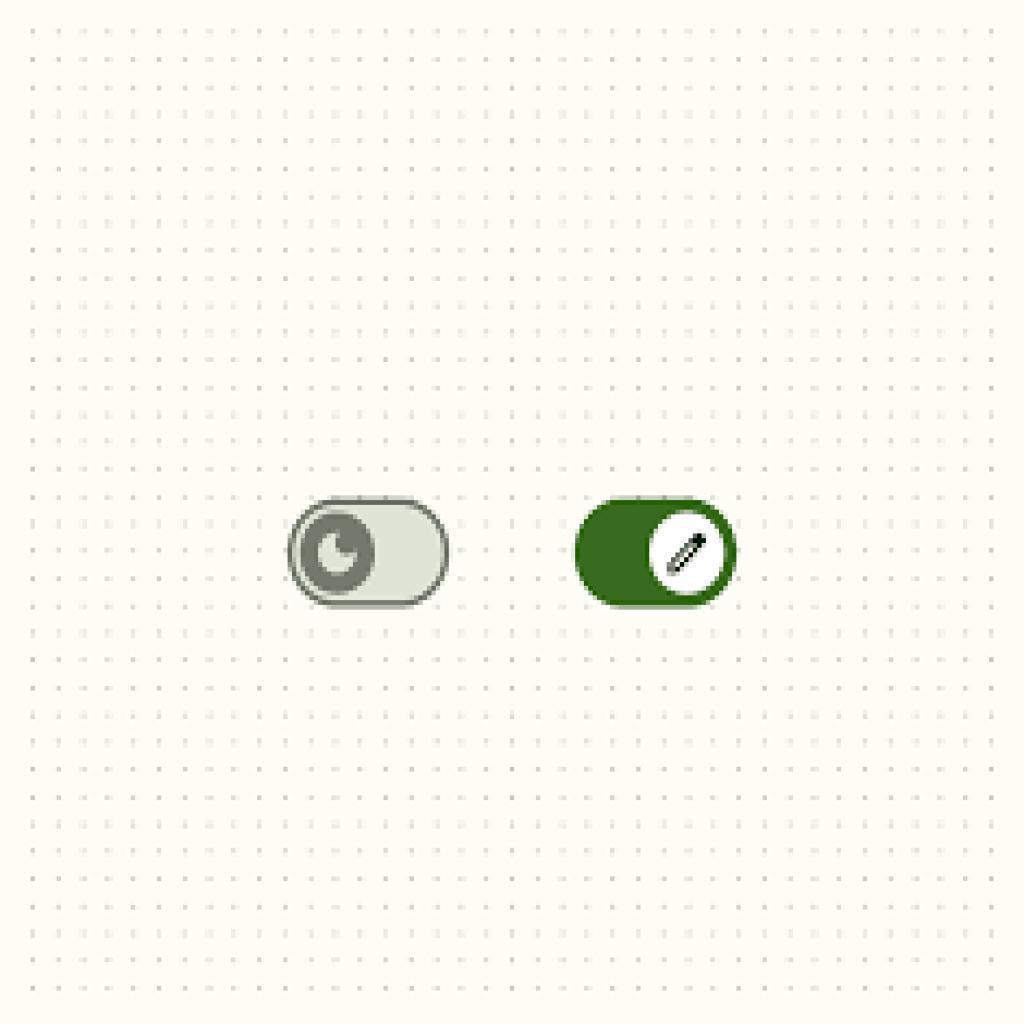switch: (574, 497, 741, 611), (290, 497, 453, 612)
